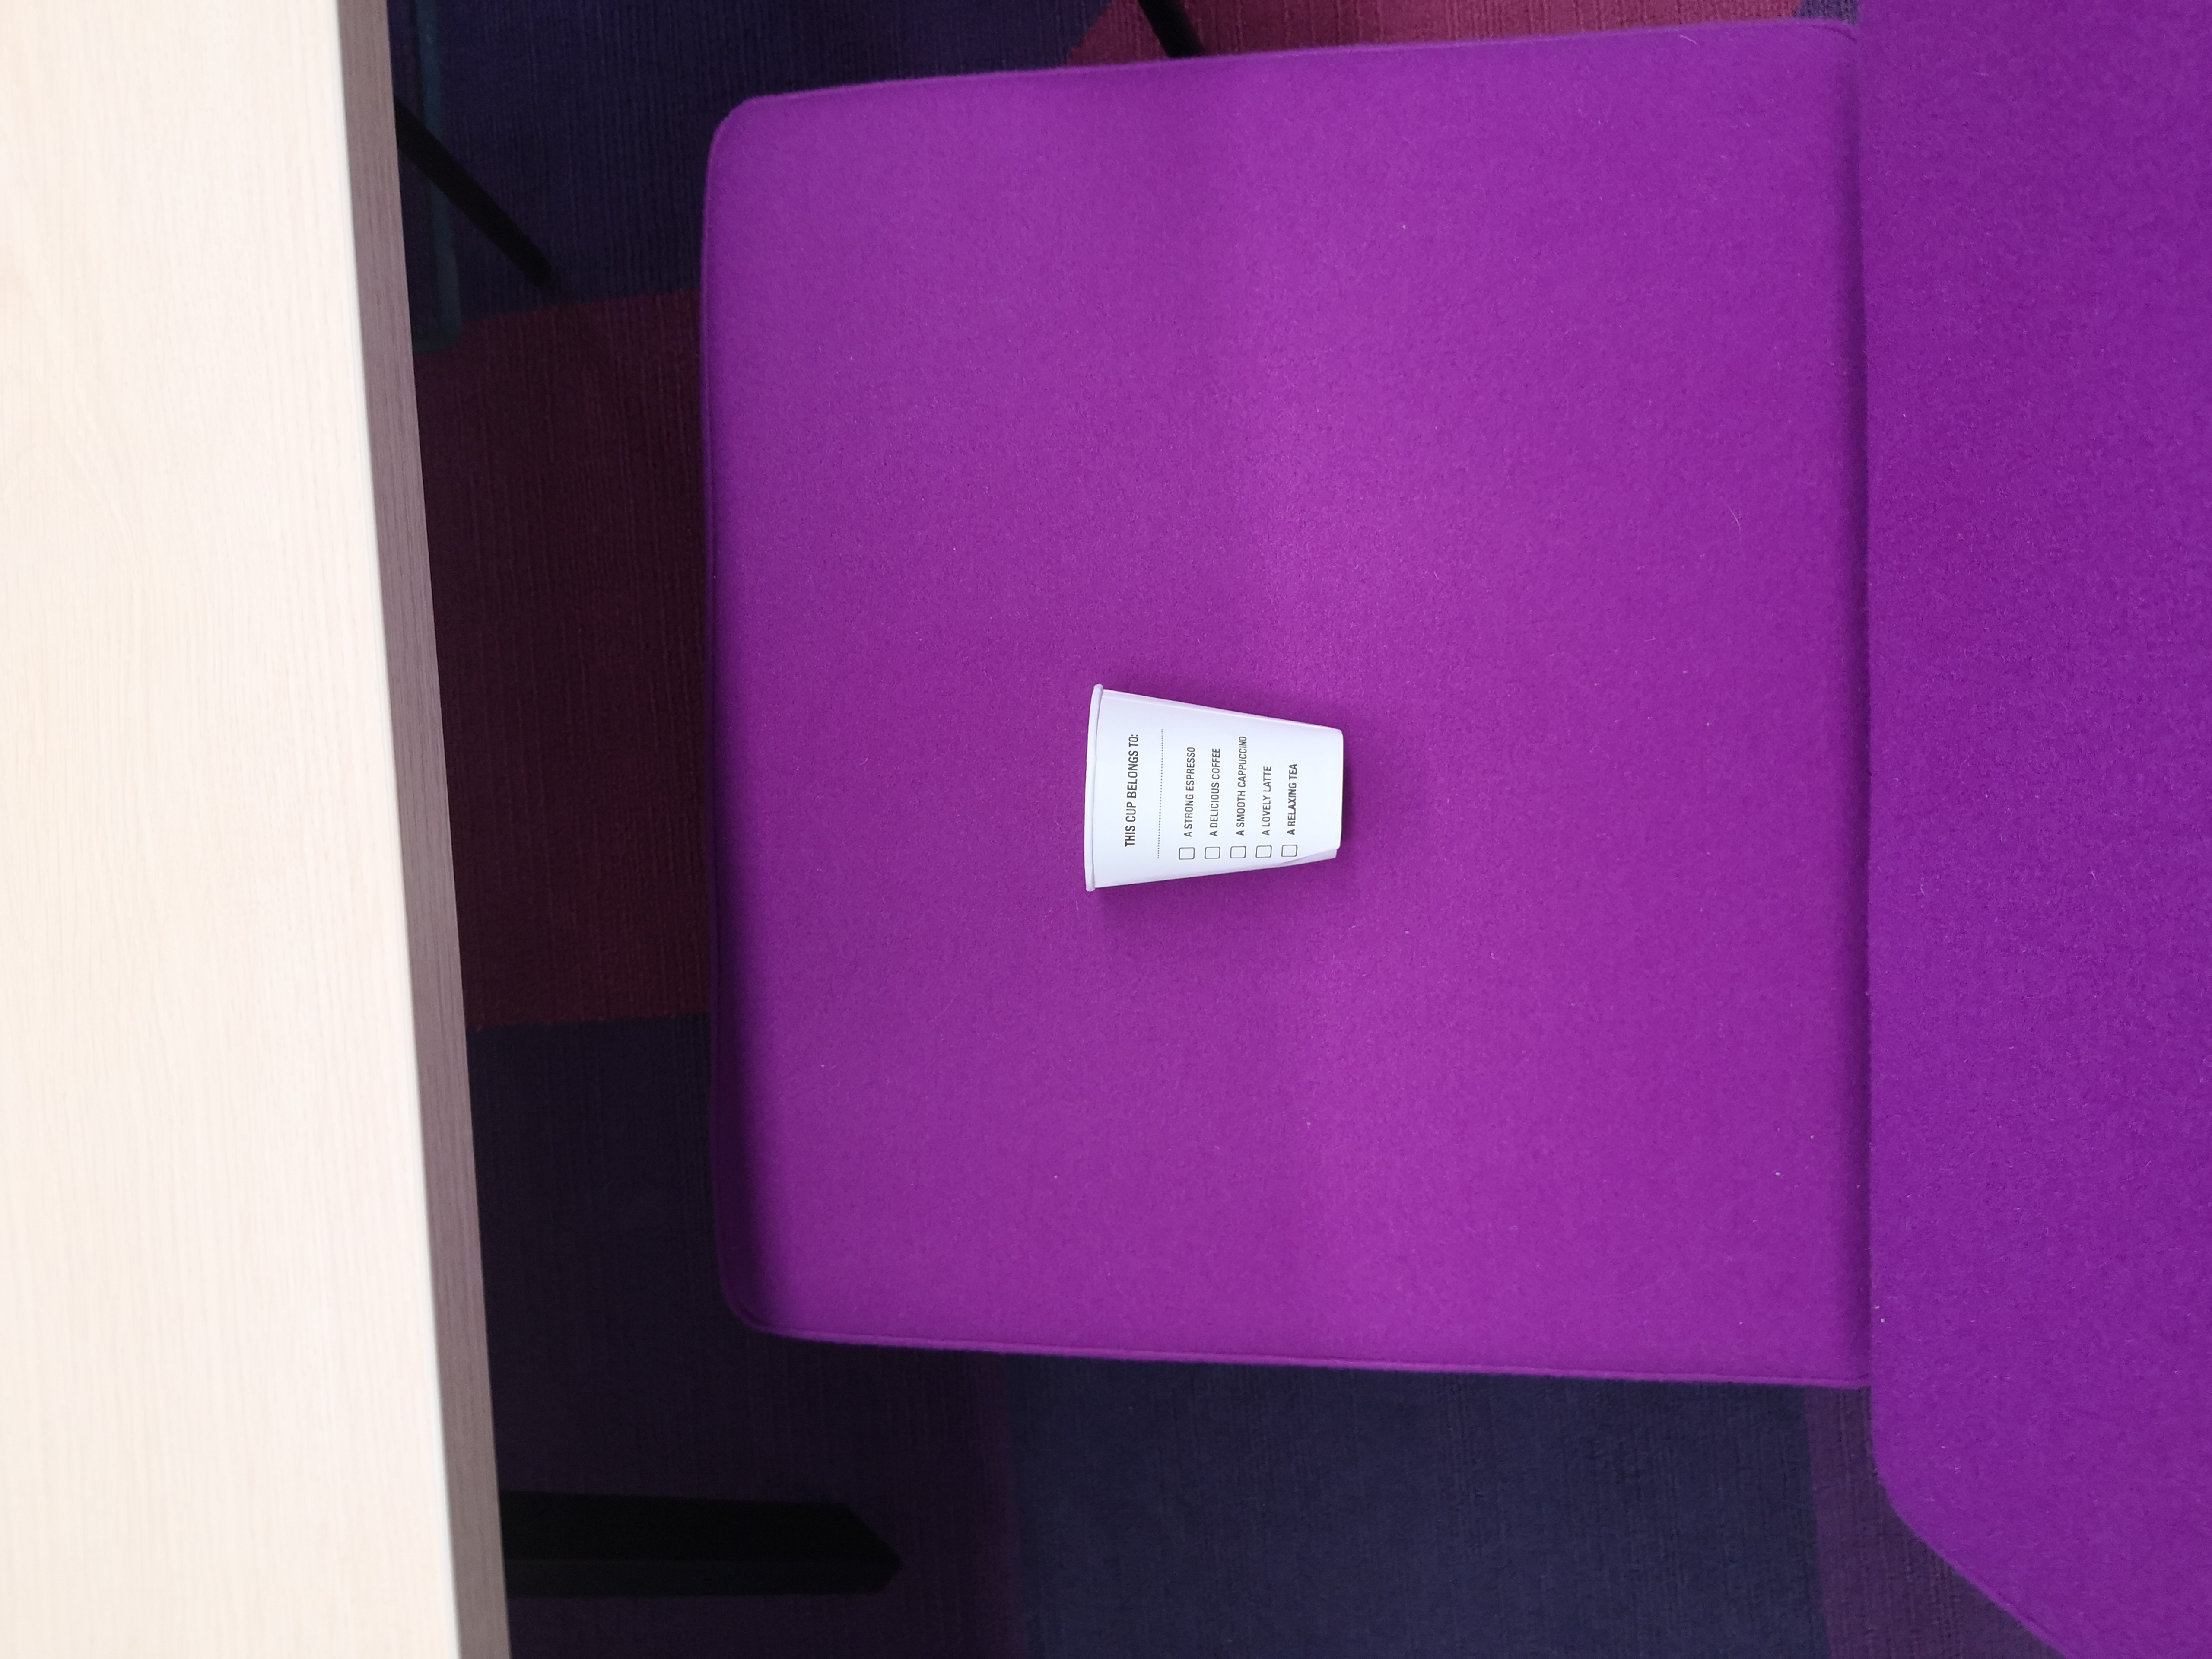cup: (1069, 660, 1374, 920)
